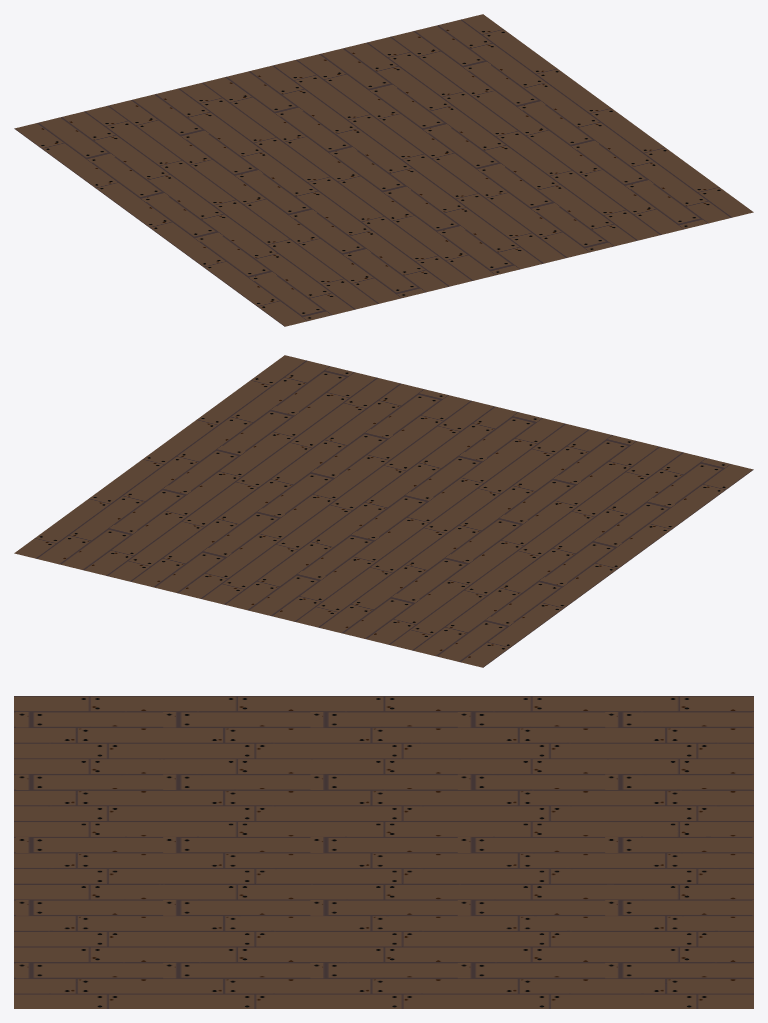
Rendered from SM_Floor_01.fbx.
3 views of the same model, one above another, from view 1: azimuth 30°, elevation 25°; view 2: azimuth 150°, elevation 25°; view 3: azimuth 270°, elevation 25° (orthographic). The views are drawn at different scales.
Parts seen in each view (by area): view 1: SM_Floor_01; view 2: SM_Floor_01; view 3: SM_Floor_01.
Boxes of the visible parts, <box> form: SM_Floor_01: <box>14,14,753,326</box>; SM_Floor_01: <box>14,355,753,667</box>; SM_Floor_01: <box>14,696,753,1008</box>.
Bounding box in the file's own units: 950 × 0 × 950.
